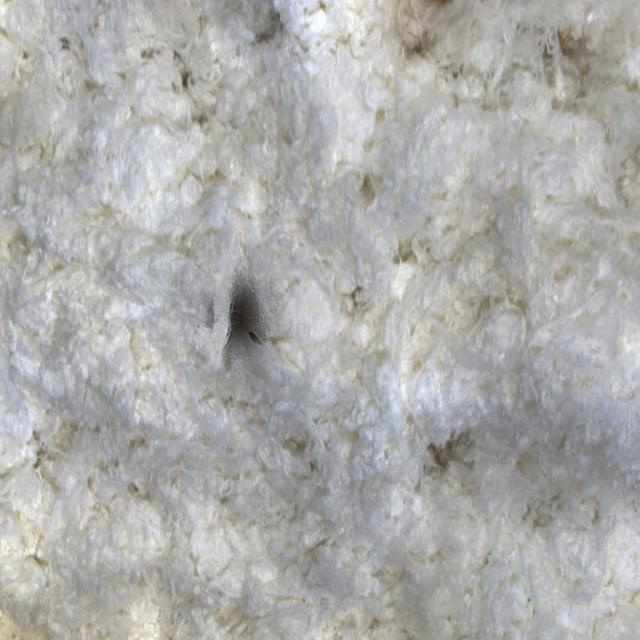dust: (183, 232, 316, 398)
